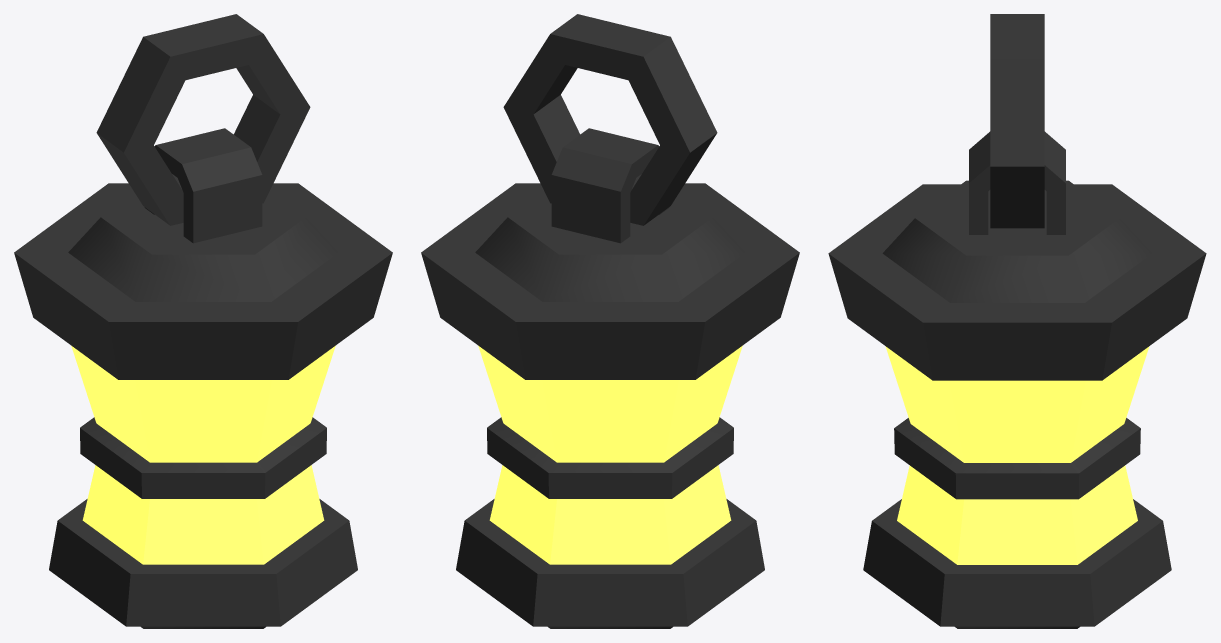
The model's file is SM_PROP_lantern_03.FBX.
3 renders of one model, left to right at view 1: azimuth 30°, elevation 25°; view 2: azimuth 150°, elevation 25°; view 3: azimuth 270°, elevation 25°, orthographic.
Visible parts, largest first — view 1: SM_PROP_lantern_03; view 2: SM_PROP_lantern_03; view 3: SM_PROP_lantern_03.
Boxes of the visible parts, x1=… form: SM_PROP_lantern_03: x1=14, y1=14, x2=392, y2=628; SM_PROP_lantern_03: x1=421, y1=14, x2=799, y2=628; SM_PROP_lantern_03: x1=828, y1=14, x2=1206, y2=628.
Bounding box in the file's own units: 50.77 × 58.63 × 93.83.
